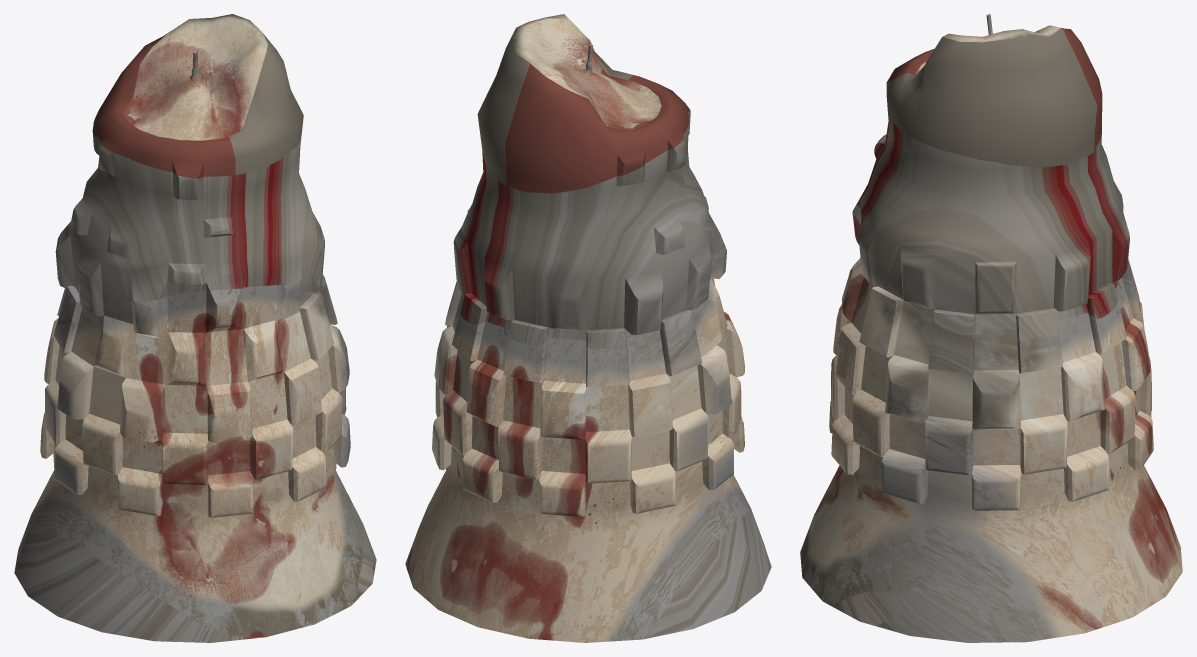
The model's file is candle3.fbx.
The picture shows the model from 3 angles, left to right: view 1: azimuth 30°, elevation 25°; view 2: azimuth 150°, elevation 25°; view 3: azimuth 270°, elevation 25°; orthographic projection. The views are drawn at different scales.
Visible parts, largest first — view 1: pCylinder1; view 2: pCylinder1; view 3: pCylinder1.
Boxes of the visible parts, box(x1,y1,x2,y2) form: pCylinder1: box(14, 14, 376, 642); pCylinder1: box(405, 14, 771, 642); pCylinder1: box(800, 14, 1182, 642).
Bounding box in the file's own units: 3.85 × 6.19 × 3.85.
